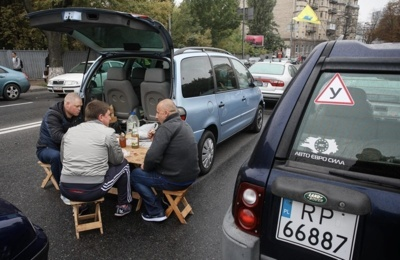plaka: (275, 194, 359, 260)
